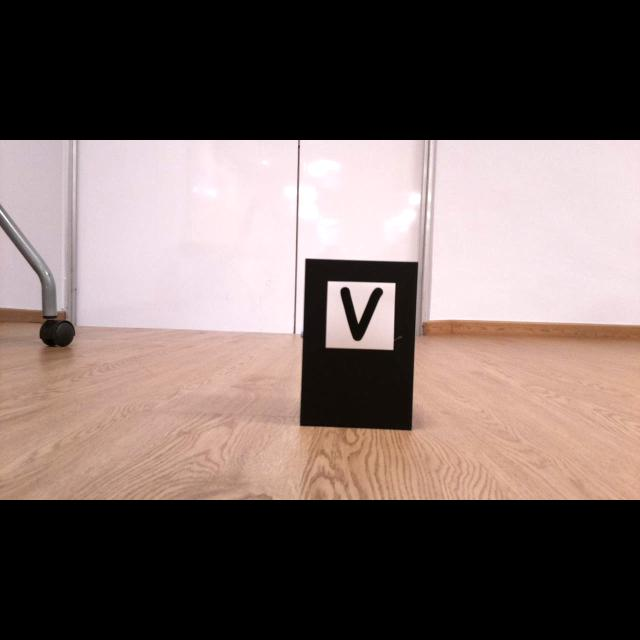V: (341, 287, 383, 341)
